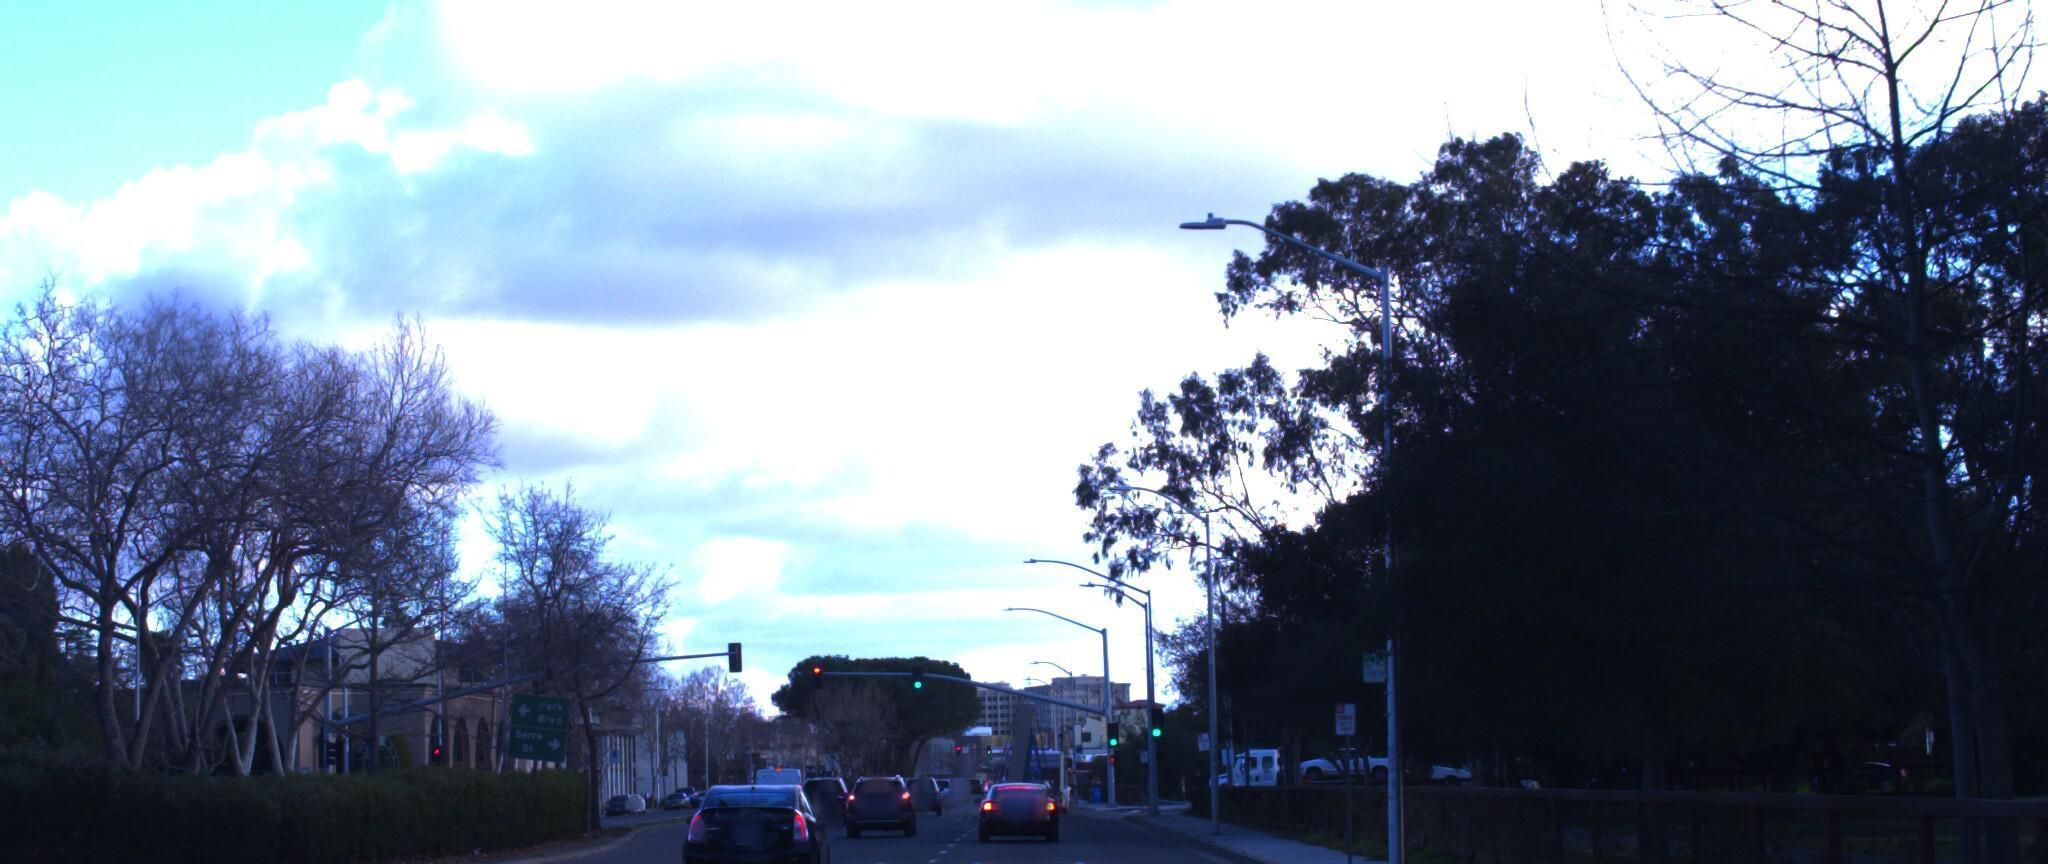car: (683, 756, 837, 864), (980, 757, 1061, 821), (854, 750, 927, 816)
